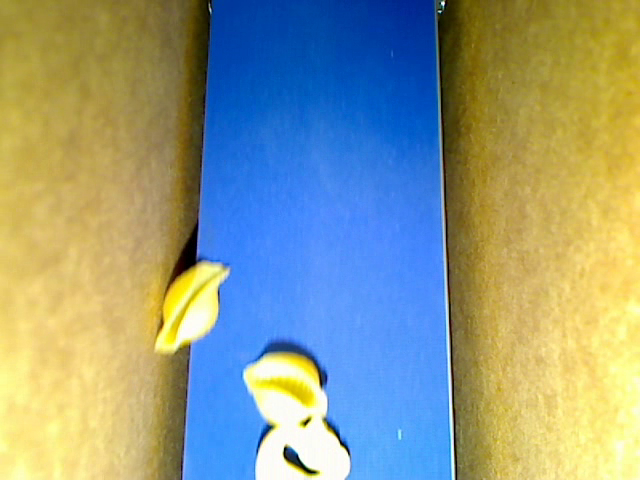shell: (153, 259, 230, 354), (241, 351, 327, 426)
tortellini: (253, 415, 351, 479)
